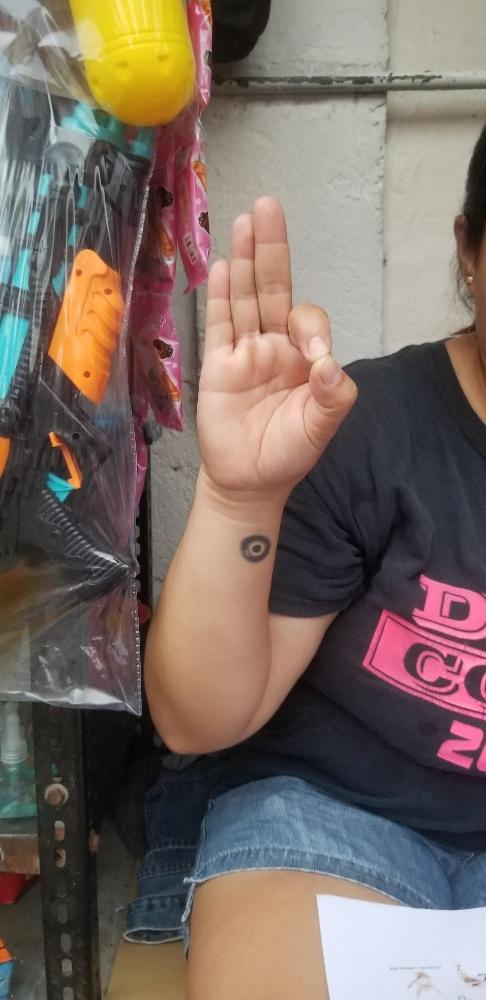f: (193, 192, 357, 490)
